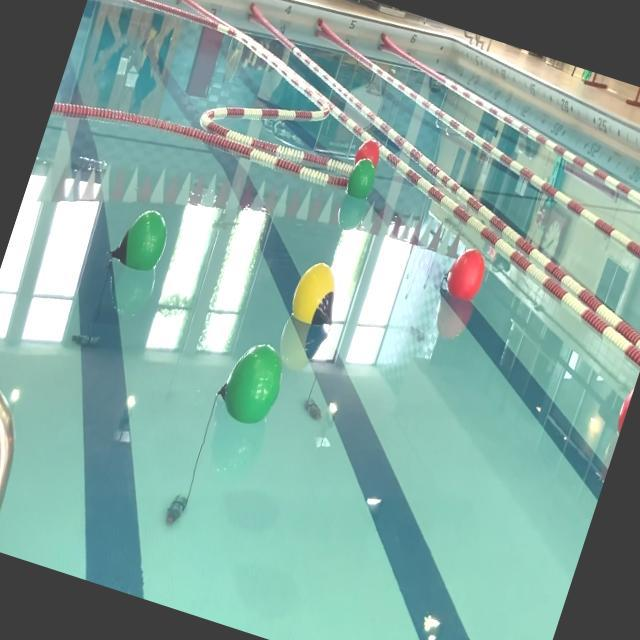buoy: (214, 336, 292, 432), (286, 255, 350, 331), (110, 203, 174, 278), (440, 243, 490, 307), (342, 154, 379, 202), (354, 135, 384, 172), (614, 387, 634, 434)
